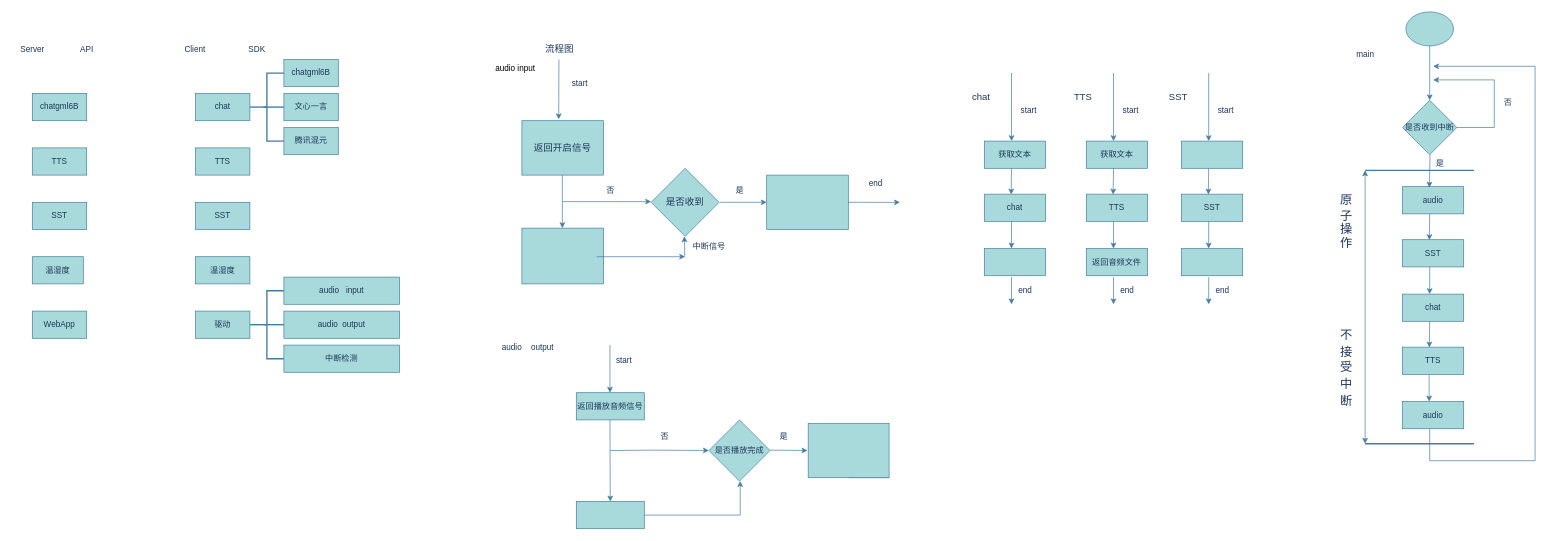
The diagram is 1552 pixels wide and 541 high, and some of its shapes have lost their labels. The shapes that lost their labels are listed below. From the top down, each one's box as (x1, y1, x2, y2) in pixels, then its label:
(1405, 11, 1454, 46): 开始
(1181, 140, 1243, 168): 获取音频
(766, 174, 848, 230): 停止收集返回音频路径
(521, 227, 604, 284): 开始收集
(984, 248, 1046, 276): 返回文本
(1181, 248, 1243, 276): 返回音频
(808, 423, 889, 478): 返回播放完成信号
(576, 501, 644, 529): 进行播放
